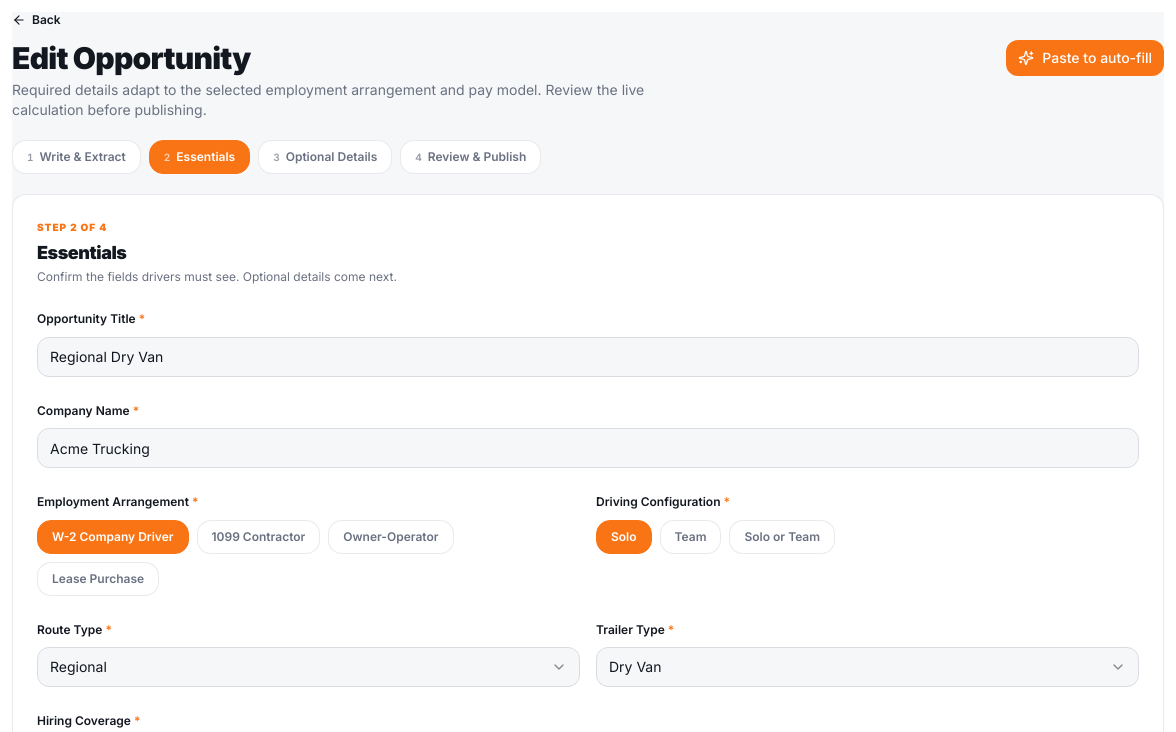
Test case: Phase 1O-A — Driver Preview truthfulness › renders positive optional values when present (sign-on bonus routed through the one-time incentive row)
Click the tab "4Review & Publish" at (471, 157), box [400,140,541,174]
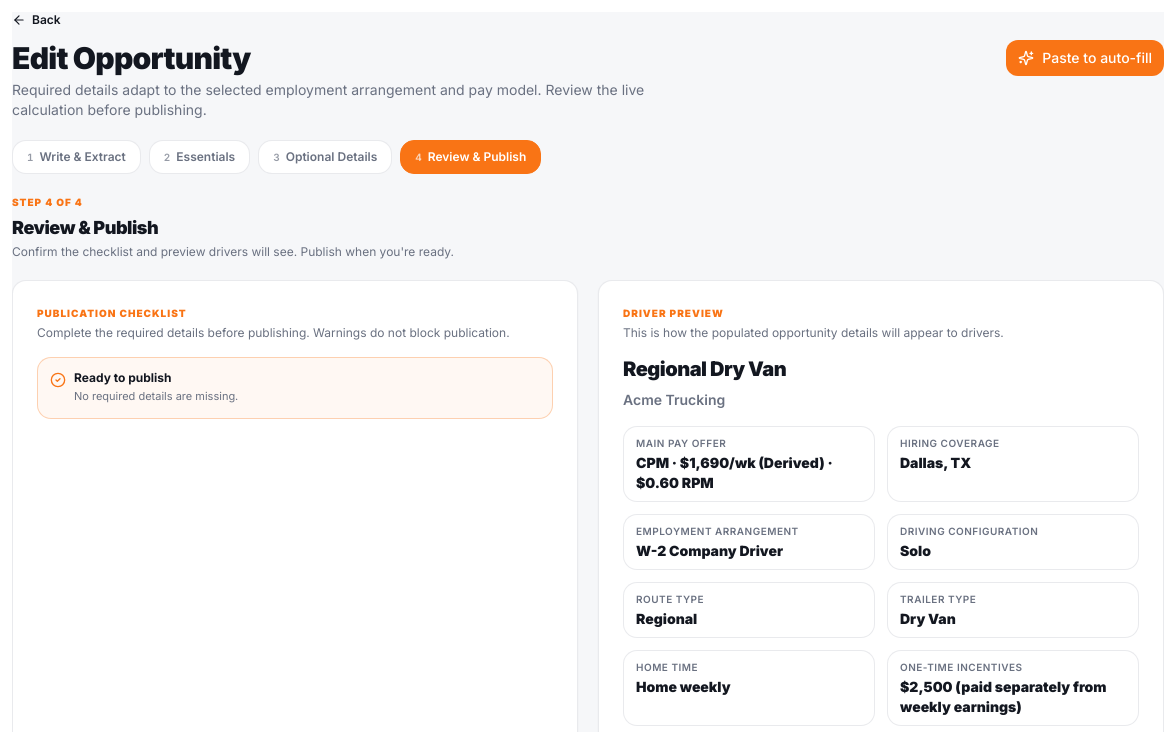
Now the text "$2,500 (paid separately from weekly earnings)" is shown, box [900,677,1126,717]
